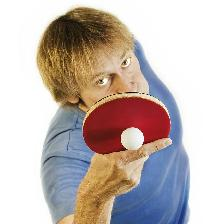WhiteBall: (119, 127, 143, 150)
